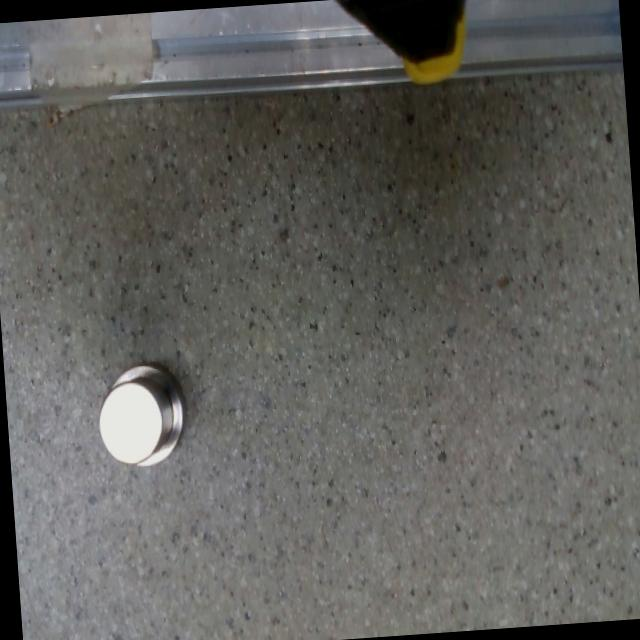sensor: (93, 359, 188, 471)
